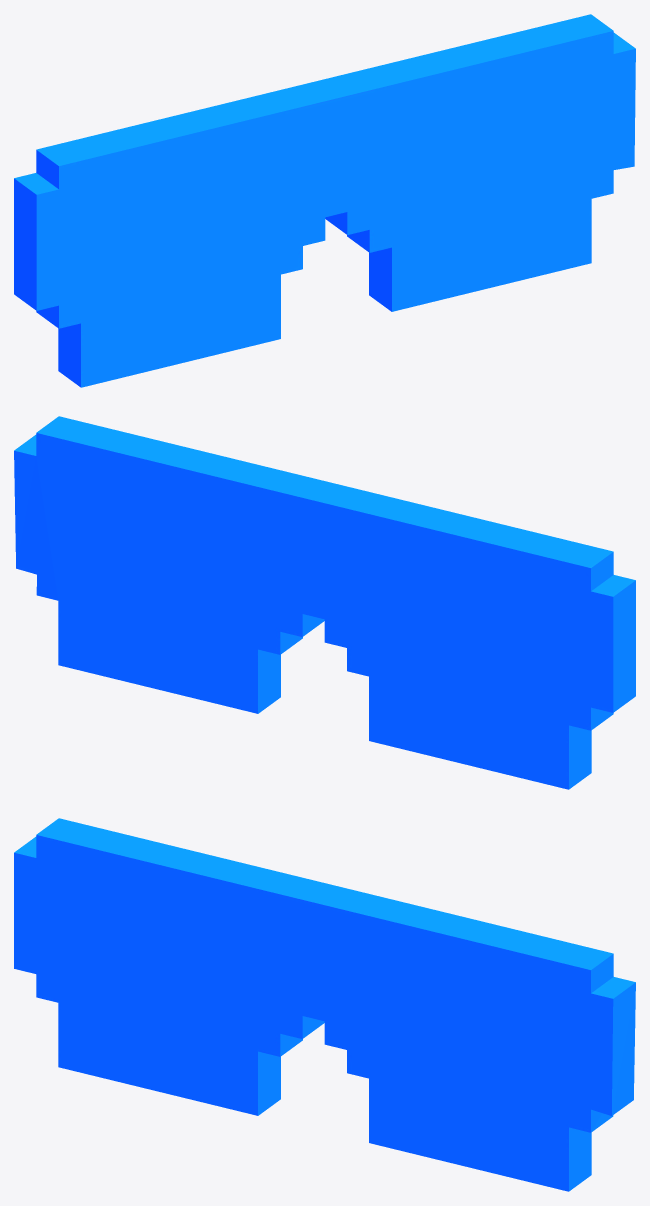
File: sunnies_blue.glb
The picture shows the model from 3 angles, top to bottom: view 1: azimuth 30°, elevation 25°; view 2: azimuth 150°, elevation 25°; view 3: azimuth 330°, elevation 25°; orthographic projection.
Visible parts, largest first — view 1: blue sunnies.001; view 2: blue sunnies.001; view 3: blue sunnies.001.
Boxes of the visible parts, x1,y1,x2,y2 form: blue sunnies.001: (14, 14, 635, 387); blue sunnies.001: (14, 416, 635, 789); blue sunnies.001: (14, 818, 635, 1191).
Size of the model in its own units: 2.7 by 0.9773 by 0.1775.
1 material, 1 textured.
